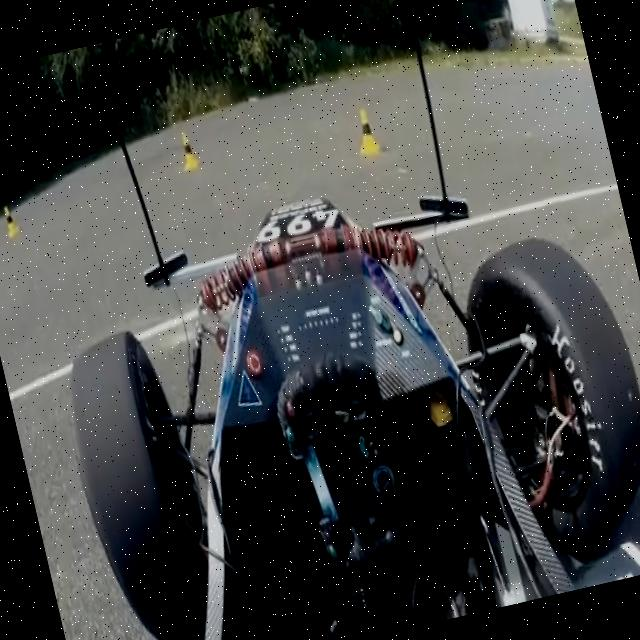yellow_cone: (349, 100, 392, 174), (178, 126, 202, 170), (0, 202, 21, 234)
